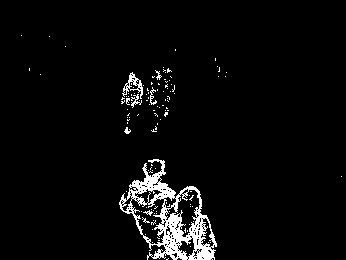person: (118, 157, 173, 258), (163, 183, 218, 260), (147, 65, 176, 134), (119, 71, 144, 137)
